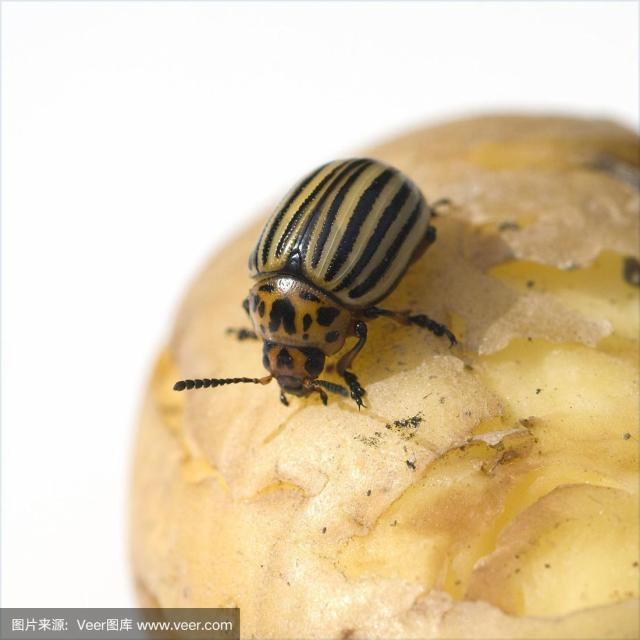ShuCaiHuaBanChong-Grown-: (198, 139, 466, 416)
